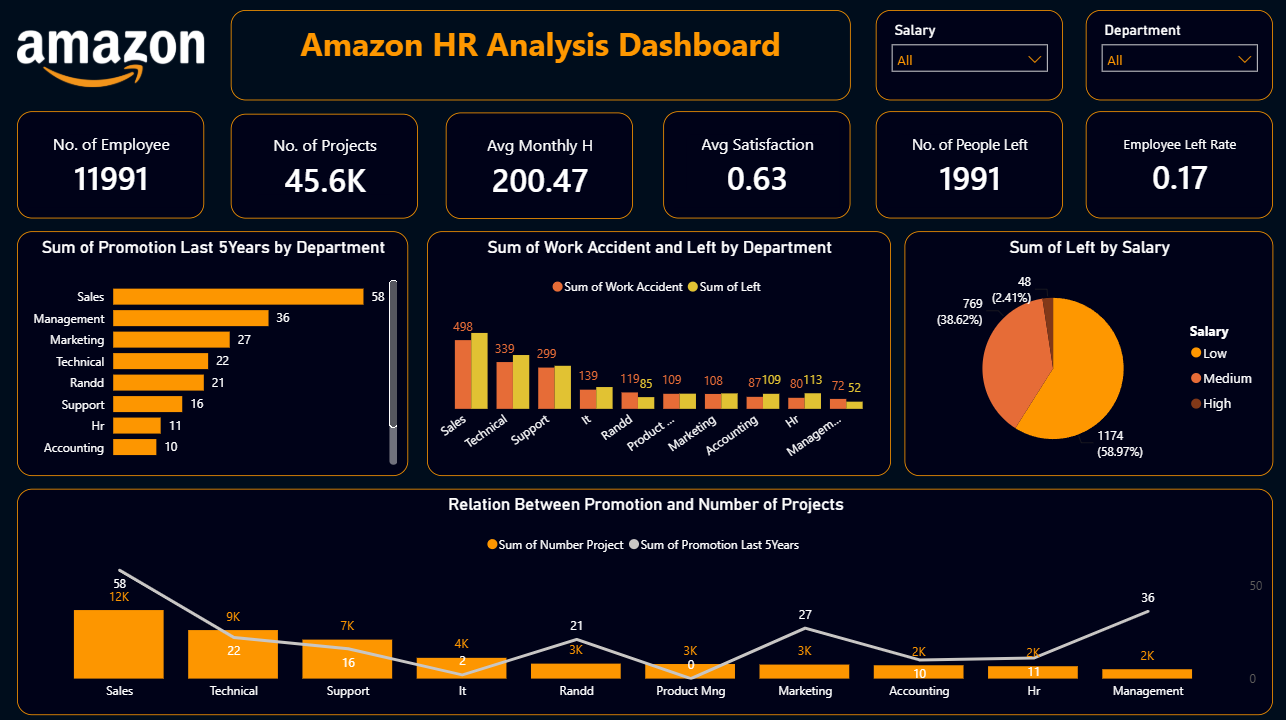

This screenshot's page, from the dashboard's own definition file:
{"tool":"powerbi","page":{"name":"Second Dashboard","canvas":[1290,740],"ordinal":2},"visuals":[{"type":"clusteredBarChart","fields":{"Category":["HR_comma_sep.Department"],"Y":["Sum(HR_comma_sep.Promotion Last 5Years)"]},"box":[20,236.2,391.2,245],"z":0},{"type":"cardVisual","fields":{"Data":["DAX Measures.No. of Employee"]},"box":[20,116.2,187.5,107.5],"z":1000},{"type":"cardVisual","fields":{"Data":["DAX Measures.No. of Projects"]},"box":[233.8,118.8,187.5,105],"z":2000},{"type":"cardVisual","fields":{"Data":["DAX Measures.Avg of Monthly Hours"]},"box":[448.8,117.5,187.5,106.2],"z":3000},{"type":"cardVisual","fields":{"Data":["DAX Measures.Avg Satisfaction"]},"box":[666.2,116.2,187.5,107.5],"z":4000},{"type":"cardVisual","fields":{"Data":["DAX Measures.No. of People Left"]},"box":[878.8,116.2,187.5,107.5],"z":5000},{"type":"cardVisual","fields":{"Data":["DAX Measures.Employee Left Rate"]},"box":[1088.8,116.2,187.5,107.5],"z":6000},{"type":"image","box":[20,22.5,187.5,82.5],"z":7000},{"type":"slicer","fields":{"Values":["HR_comma_sep.Department"]},"box":[1088.8,15,187.5,90],"z":8000},{"type":"slicer","fields":{"Values":["HR_comma_sep.Salary"]},"box":[878.8,15,187.5,90],"z":9000},{"type":"clusteredColumnChart","title":"Sum of Work Accident and Left by Department","fields":{"Category":["HR_comma_sep.Department"],"Y":["Sum(HR_comma_sep.Work Accident)","Sum(HR_comma_sep.Left)"]},"box":[430,236.2,463.8,245],"z":10000},{"type":"lineStackedColumnComboChart","title":"Relation Between Promotion and Number of Projects","fields":{"Category":["HR_comma_sep.Department"],"Y":["Sum(HR_comma_sep.Number Project)"],"Y2":["Sum(HR_comma_sep.Promotion Last 5Years)"]},"box":[20,493.8,1256.2,226.2],"z":11000},{"type":"textbox","box":[233.8,15,620,90],"z":12000},{"type":"pieChart","fields":{"Category":["HR_comma_sep.Salary"],"Y":["Sum(HR_comma_sep.Left)"]},"box":[907.5,236.2,368.8,245],"z":13000}]}

Visuals, with their boxes in screenshot pixels (x1, y1, x2, y2), scaled from the page's 1290x740 canvas onto the 1286x720 screenshot:
clusteredBarChart - HR_comma_sep.Department x Sum(HR_comma_sep.Promotion Last 5Years): locate(20, 230, 410, 468)
cardVisual - DAX Measures.No. of Employee: locate(20, 113, 207, 218)
cardVisual - DAX Measures.No. of Projects: locate(233, 116, 420, 218)
cardVisual - DAX Measures.Avg of Monthly Hours: locate(447, 114, 634, 218)
cardVisual - DAX Measures.Avg Satisfaction: locate(664, 113, 851, 218)
cardVisual - DAX Measures.No. of People Left: locate(876, 113, 1063, 218)
cardVisual - DAX Measures.Employee Left Rate: locate(1085, 113, 1272, 218)
image: locate(20, 22, 207, 102)
slicer - HR_comma_sep.Department: locate(1085, 15, 1272, 102)
slicer - HR_comma_sep.Salary: locate(876, 15, 1063, 102)
"Sum of Work Accident and Left by Department" clusteredColumnChart: locate(429, 230, 891, 468)
"Relation Between Promotion and Number of Projects" lineStackedColumnComboChart: locate(20, 480, 1272, 701)
textbox: locate(233, 15, 851, 102)
pieChart - HR_comma_sep.Salary x Sum(HR_comma_sep.Left): locate(905, 230, 1272, 468)
